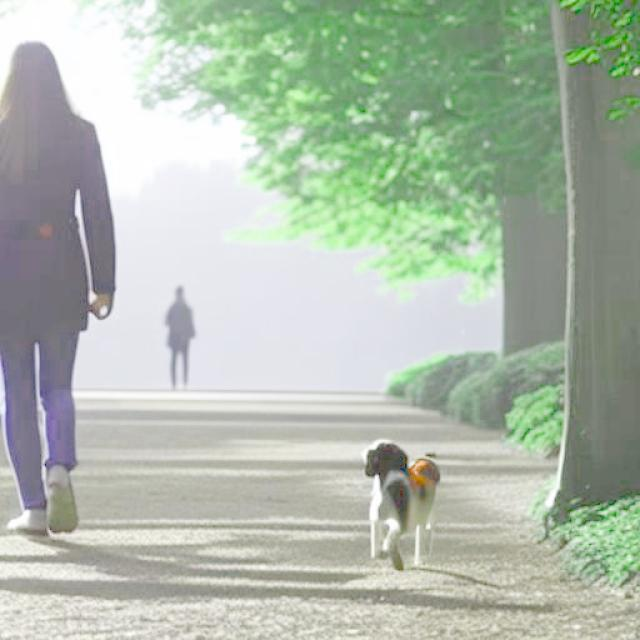Unleashed_Dog: (10, 243, 442, 572)
